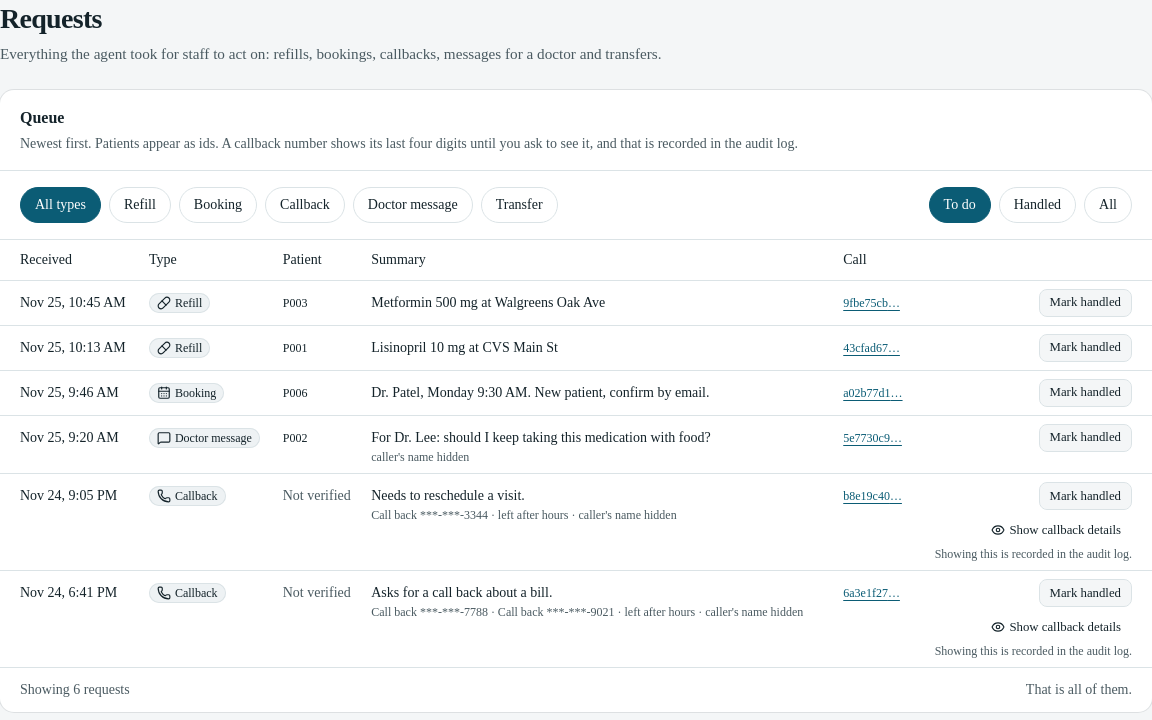
Test: two marks on their way at once › a failure stays on its own row while the other is handled
Click the button "Mark handled" in the row of "Nov 25, 10:45 AM" at (1085, 303), box [1039,289,1132,317]
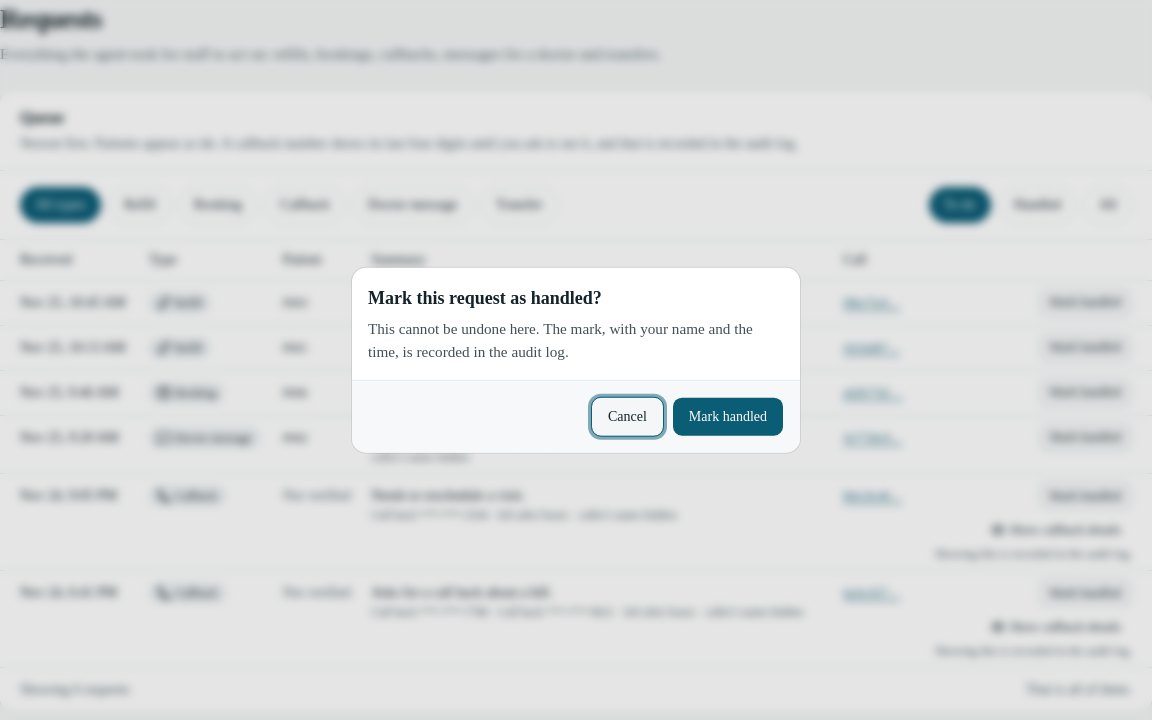
Click the button "Mark handled" at (728, 416), box [672,396,784,436]
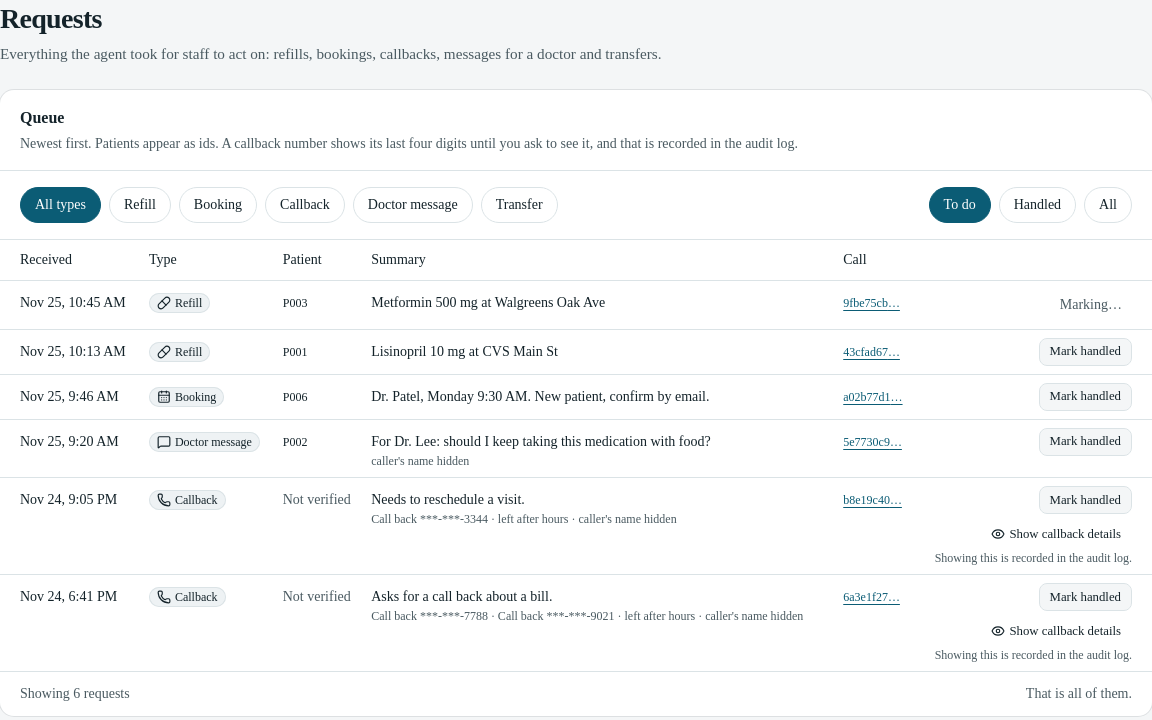
Expected: the dialog is gone
Click the button "Mark handled" in the row of "Nov 25, 10:13 AM" at (1085, 352), box [1039,338,1132,366]
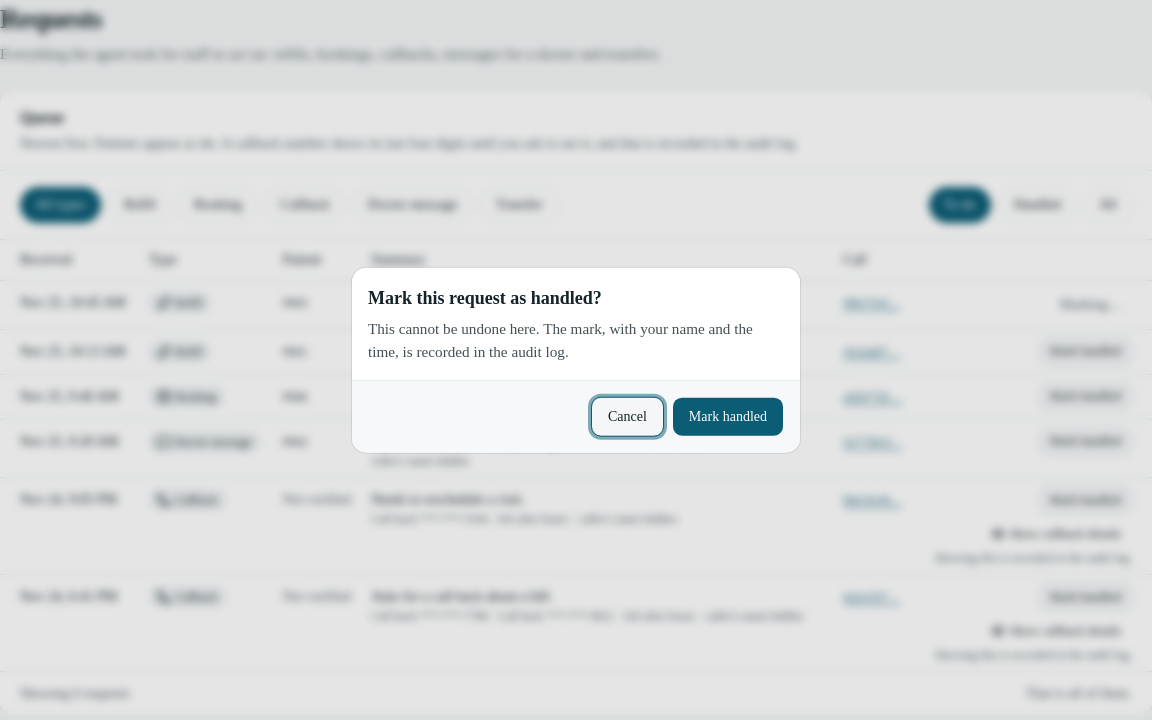
Click the button "Mark handled" at (728, 416), box [672,396,784,436]
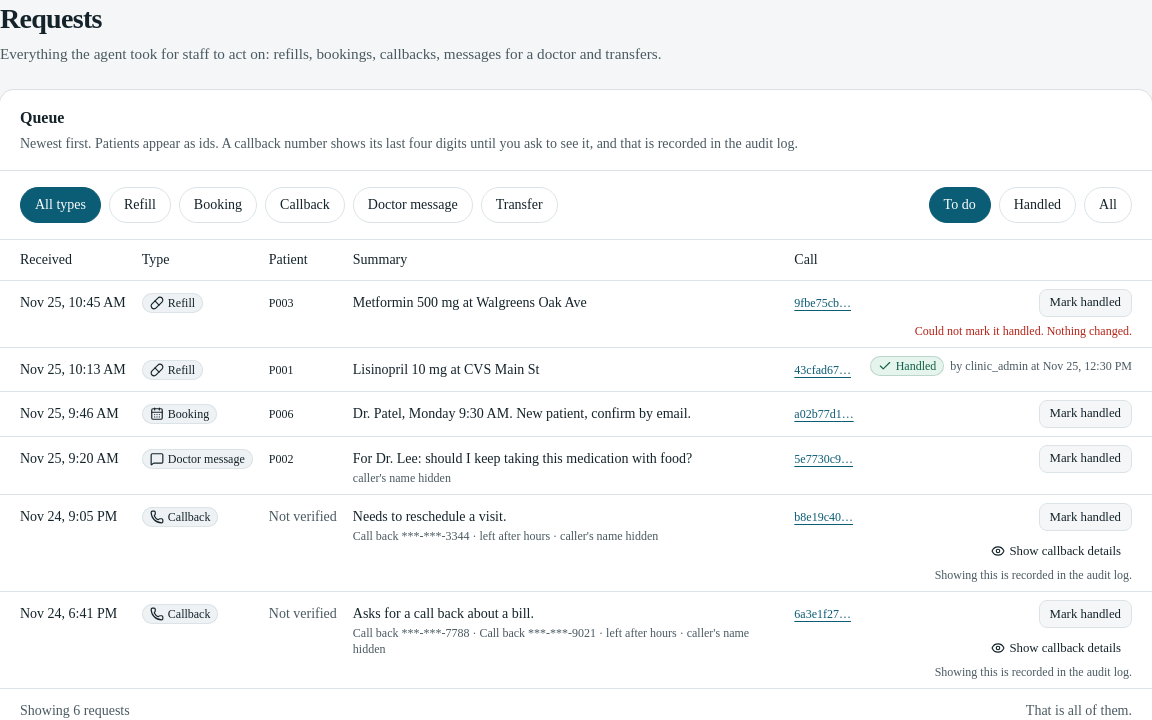
Expected: the dialog is gone
Expected: the text "Could not mark it handled. Nothing changed." is shown, [915,323,1132,339]
Expected: the text "Handled" is shown, [870,356,944,376]
